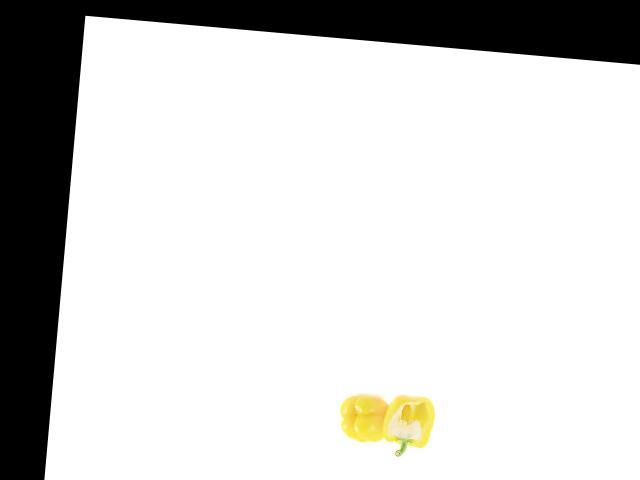bell_pepper: (371, 380, 440, 461)
